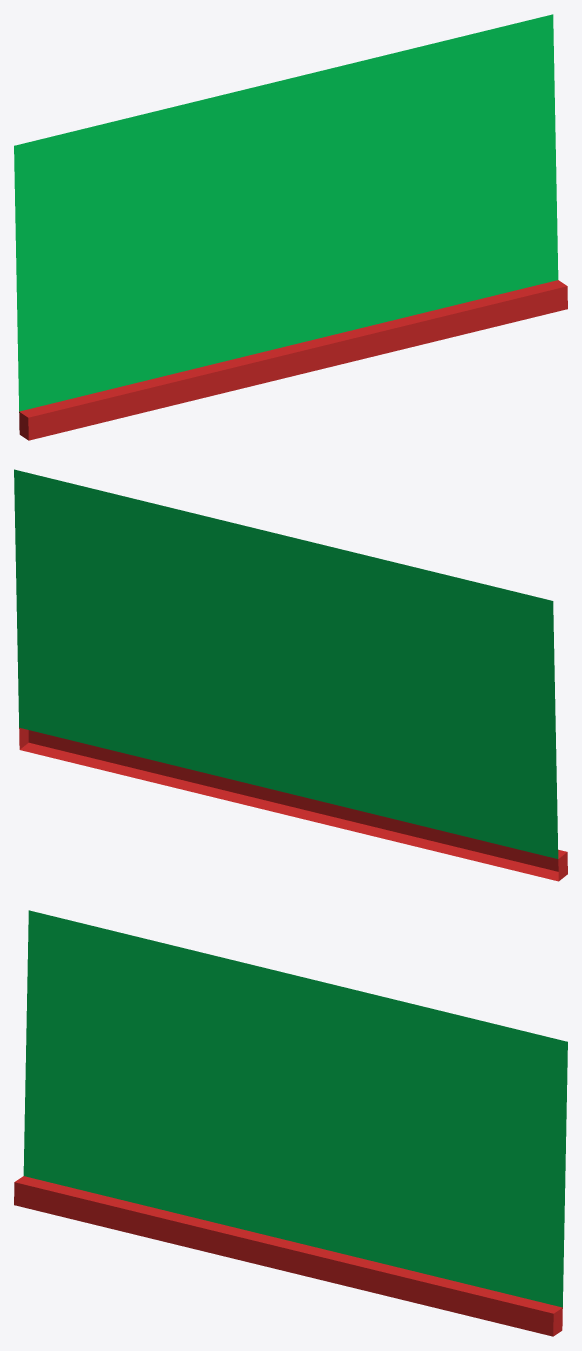
The model's file is wall.fbx.
3 views of the same model, one above another, from view 1: azimuth 30°, elevation 25°; view 2: azimuth 150°, elevation 25°; view 3: azimuth 330°, elevation 25° (orthographic).
Parts seen in each view (by area): view 1: pPlane1; view 2: pPlane1; view 3: pPlane1.
Boxes of the visible parts, x1,y1,x2,y2 form: pPlane1: (14, 14, 567, 440); pPlane1: (14, 469, 567, 881); pPlane1: (14, 910, 567, 1336).
Bounding box in the file's own units: 22.96 × 11.58 × 1.09.
